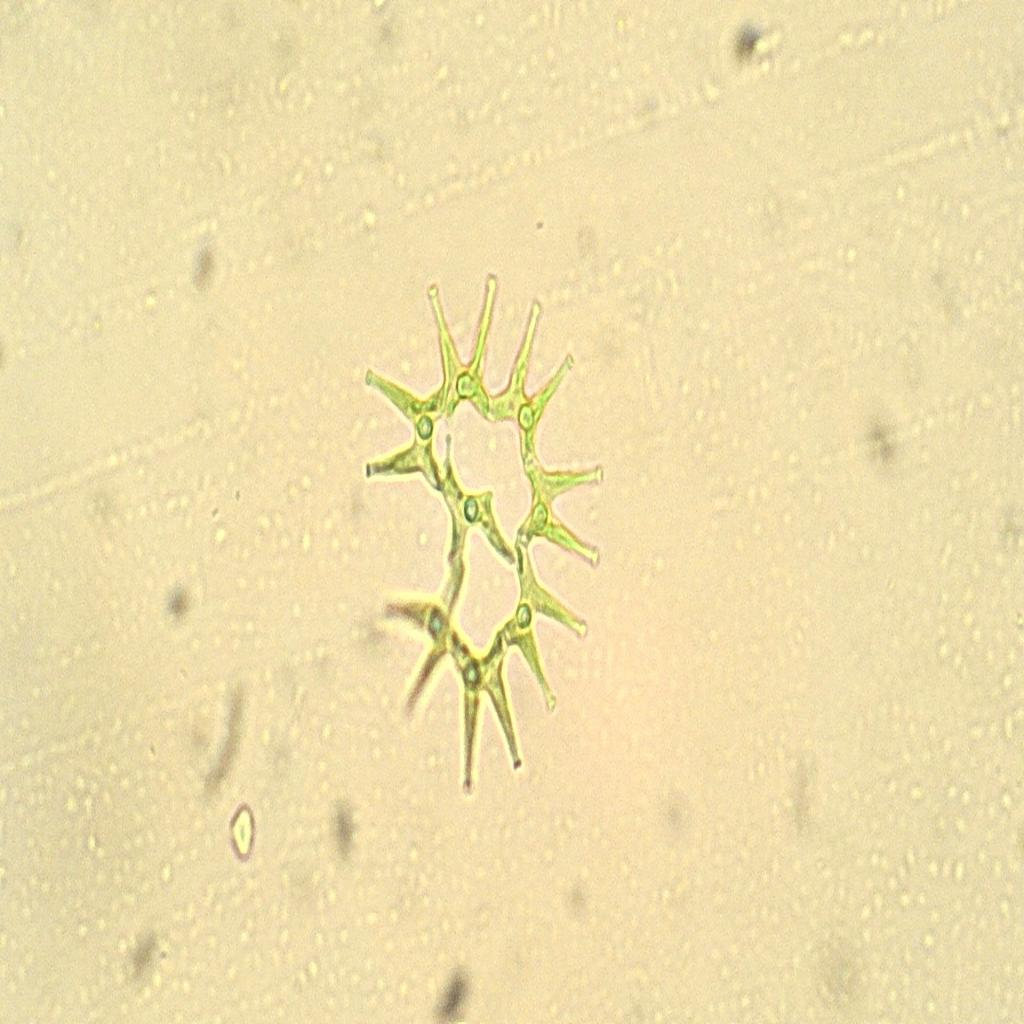Pediastrum_CFI: (344, 248, 628, 822)
